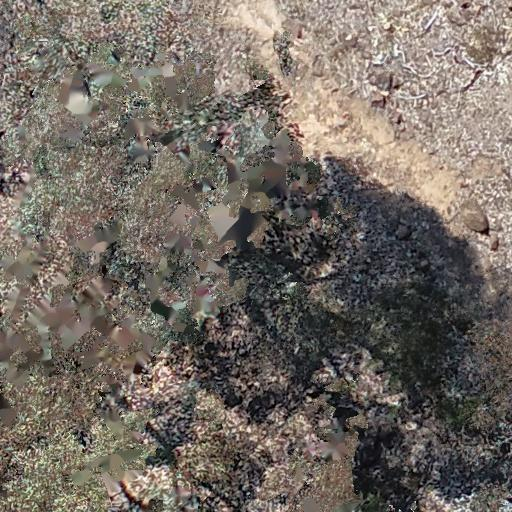stone: (462, 200, 487, 230), (373, 68, 400, 90), (370, 91, 384, 107), (488, 234, 501, 251), (396, 225, 410, 239), (389, 215, 399, 234), (384, 22, 392, 30)
